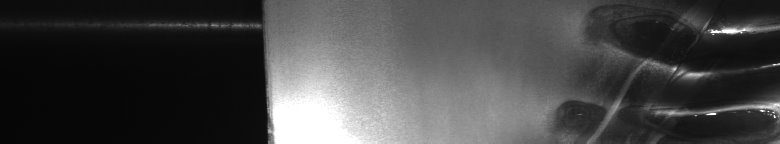ke: (560, 17, 776, 136)
